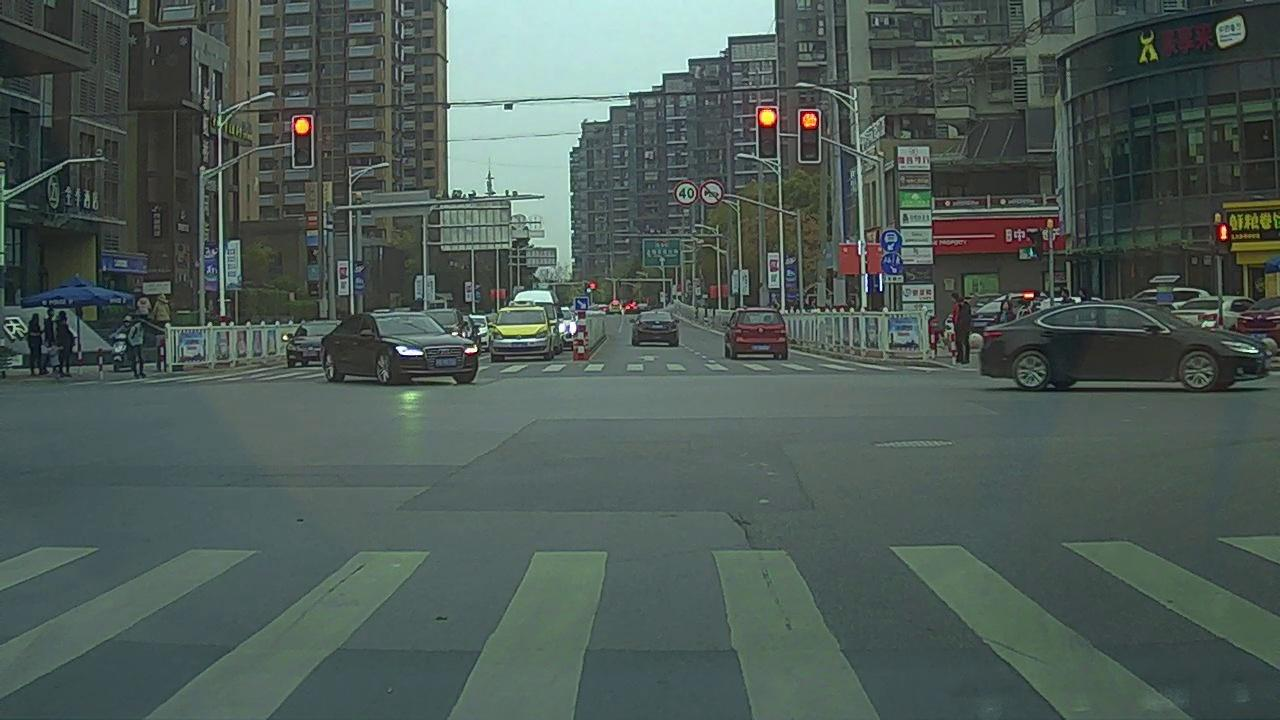traffic_light: (796, 110, 823, 163), (292, 117, 316, 169), (756, 106, 780, 157)
